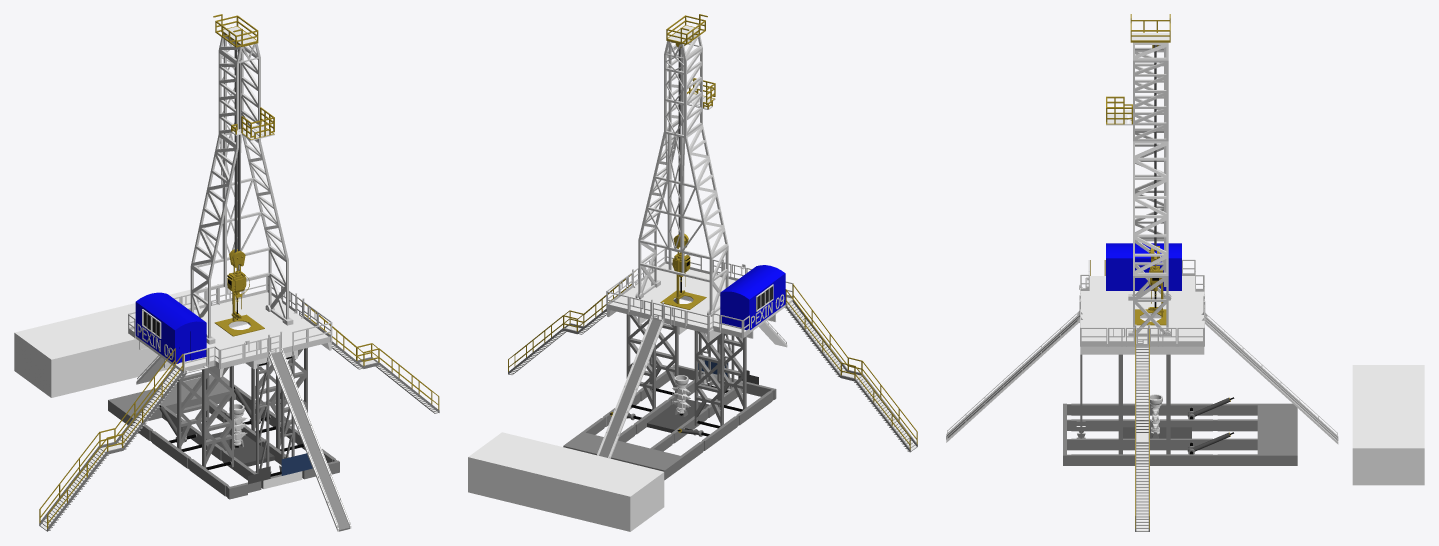
Rendered from Oil_Rig.FBX.
3 views of the same model, side by side, from view 1: azimuth 30°, elevation 25°; view 2: azimuth 150°, elevation 25°; view 3: azimuth 270°, elevation 25° (orthographic). The views are drawn at different scales.
Visible parts, largest first — view 1: Rig 1_001, Group#36_001, Base_Platform_001, Stairs1_001, Ramp1_002, Platform_Leg_Large_001, Railings_1_001, Stairs1#2_001, Platform_Leg_Large_004, Platform_Legs_Small_001, Platform_Leg_Large_002, Group_006 (+6 smaller); view 2: Rig 1_001, Group#36_001, Base_Platform_001, Stairs1_001, Ramp1_001, Platform_Leg_Large_004, Railings2#1_001, Stairs1#2_001, Platform_Leg_Large_001, Platform_Leg_Large_003, Platform_Leg_Large_002, Group_005 (+3 smaller); view 3: Rig 1_001, Group#36_001, Base_Platform_001, Stairs1#2_001, Railings2_001, Ramp1_002, Ramp1_001, Group_005, Group_004.
Part boxes in pixels (x1,y1,x2,y2): Rig 1_001: (14, 49, 339, 499); Group#36_001: (190, 34, 288, 338); Base_Platform_001: (132, 292, 331, 377); Stairs1_001: (39, 348, 184, 531); Ramp1_002: (268, 348, 351, 531); Platform_Leg_Large_001: (202, 366, 233, 469); Railings_1_001: (183, 322, 331, 373); Stairs1#2_001: (301, 301, 439, 413); Platform_Leg_Large_004: (177, 370, 209, 451); Platform_Legs_Small_001: (256, 361, 269, 473); Platform_Leg_Large_002: (276, 348, 307, 451); Group_006: (227, 249, 249, 321); Rig 1_001: (468, 48, 785, 531); Group#36_001: (638, 32, 728, 314); Base_Platform_001: (607, 263, 792, 341); Stairs1_001: (784, 284, 917, 452); Ramp1_001: (597, 316, 663, 458); Platform_Leg_Large_004: (694, 331, 723, 428); Railings2#1_001: (606, 291, 749, 338); Stairs1#2_001: (508, 271, 635, 374); Platform_Leg_Large_001: (717, 333, 746, 411); Platform_Leg_Large_003: (626, 314, 655, 411); Platform_Leg_Large_002: (649, 298, 678, 395); Group_005: (666, 14, 707, 44); Rig 1_001: (1063, 45, 1424, 485); Group#36_001: (1133, 42, 1168, 336); Base_Platform_001: (1080, 276, 1204, 354); Stairs1#2_001: (1135, 328, 1149, 531); Railings2_001: (1080, 324, 1204, 346); Ramp1_002: (946, 311, 1079, 442); Ramp1_001: (1205, 313, 1338, 444); Group_005: (1130, 14, 1170, 42); Group_004: (1106, 96, 1132, 125).
Bounding box in the file's own units: 1248 × 1247 × 1287.
